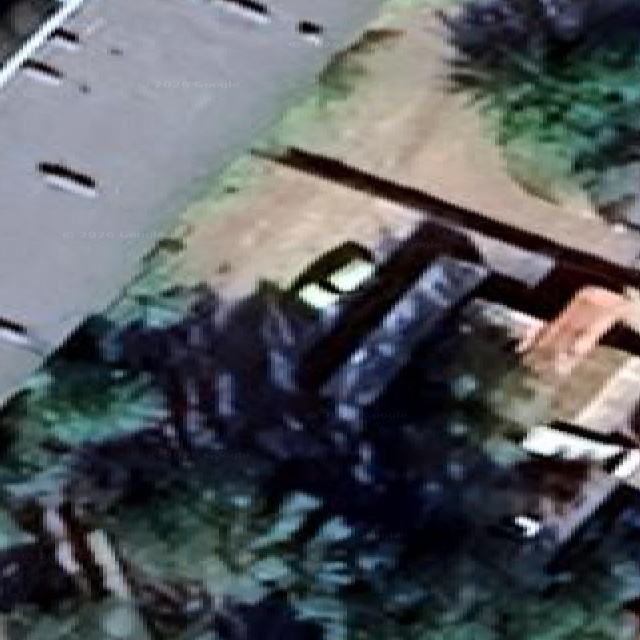car: (0, 0, 380, 404), (522, 422, 639, 479), (287, 240, 375, 311)
